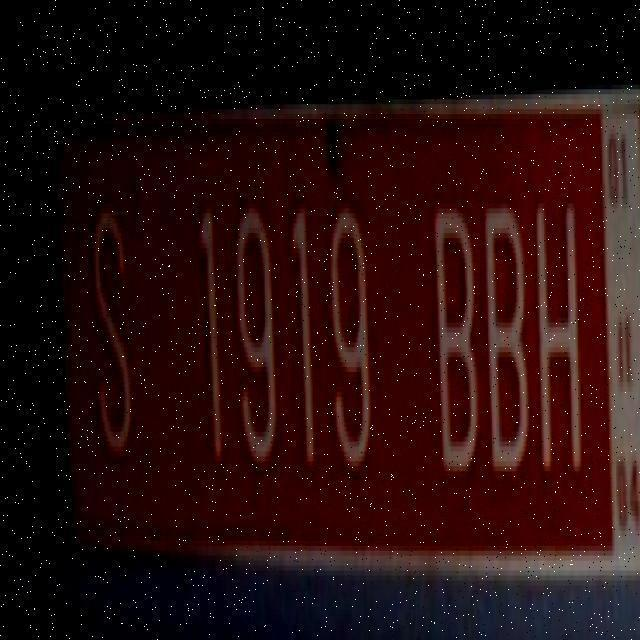LicensePlate: (52, 99, 640, 571)
